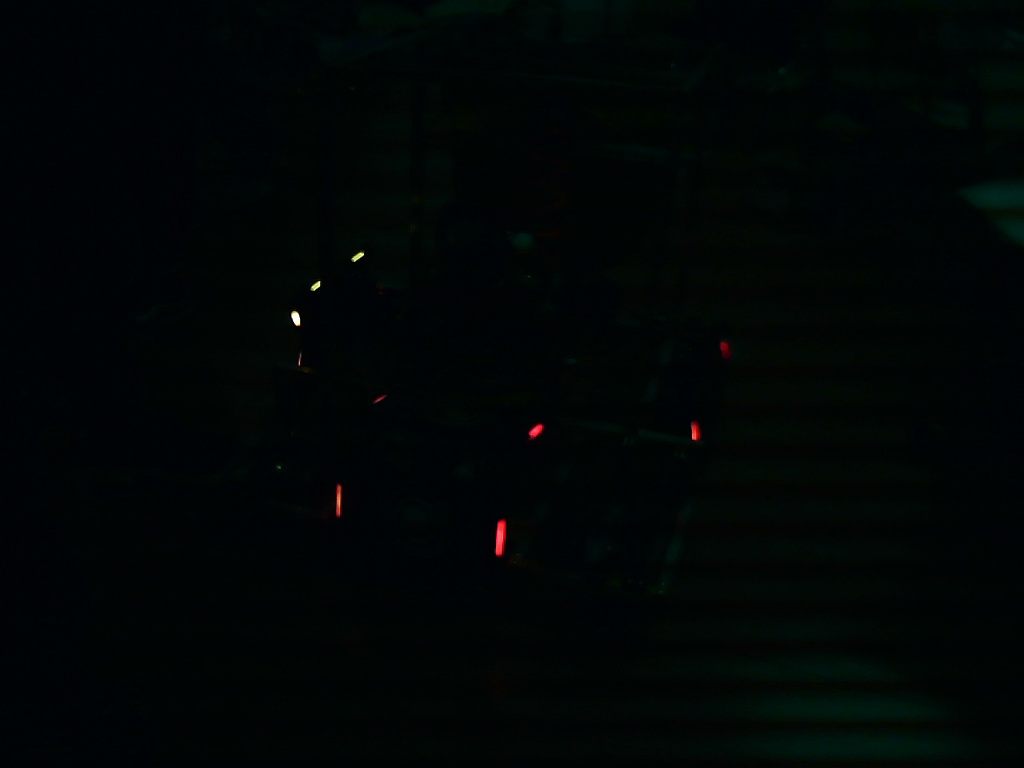lamp: (492, 515, 508, 560), (332, 478, 345, 522)
